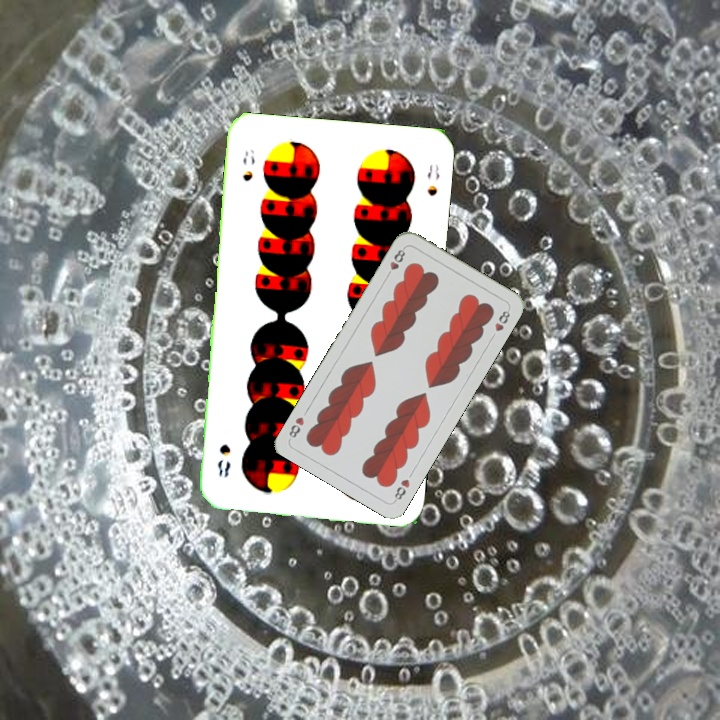H8: (382, 243, 408, 280), (390, 475, 412, 505)
S8: (238, 146, 258, 184)
